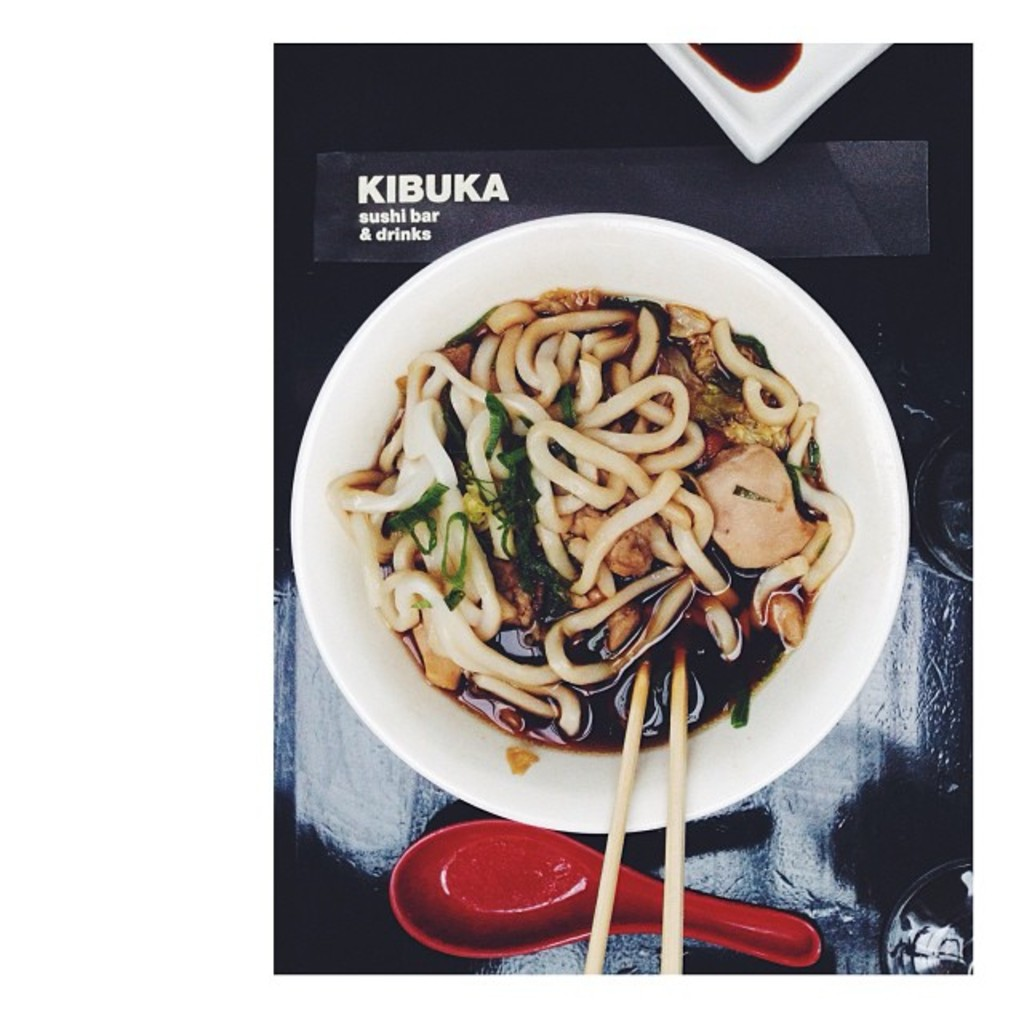pasta: (328, 286, 854, 747)
